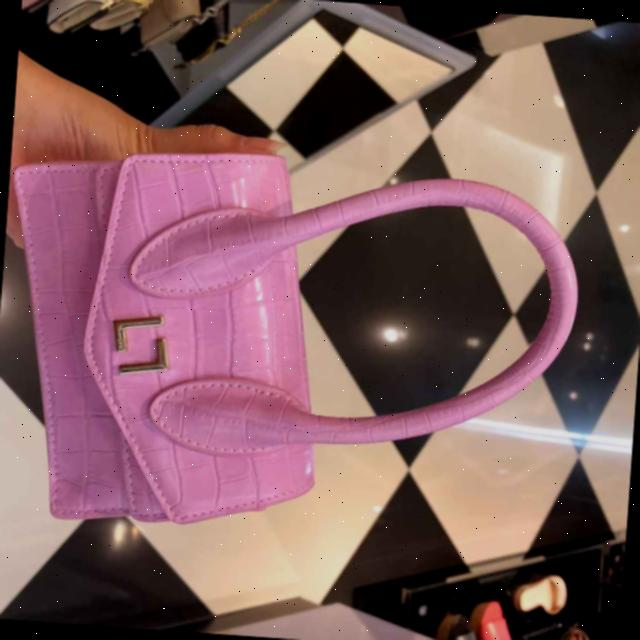Handbag: (0, 127, 599, 554)
